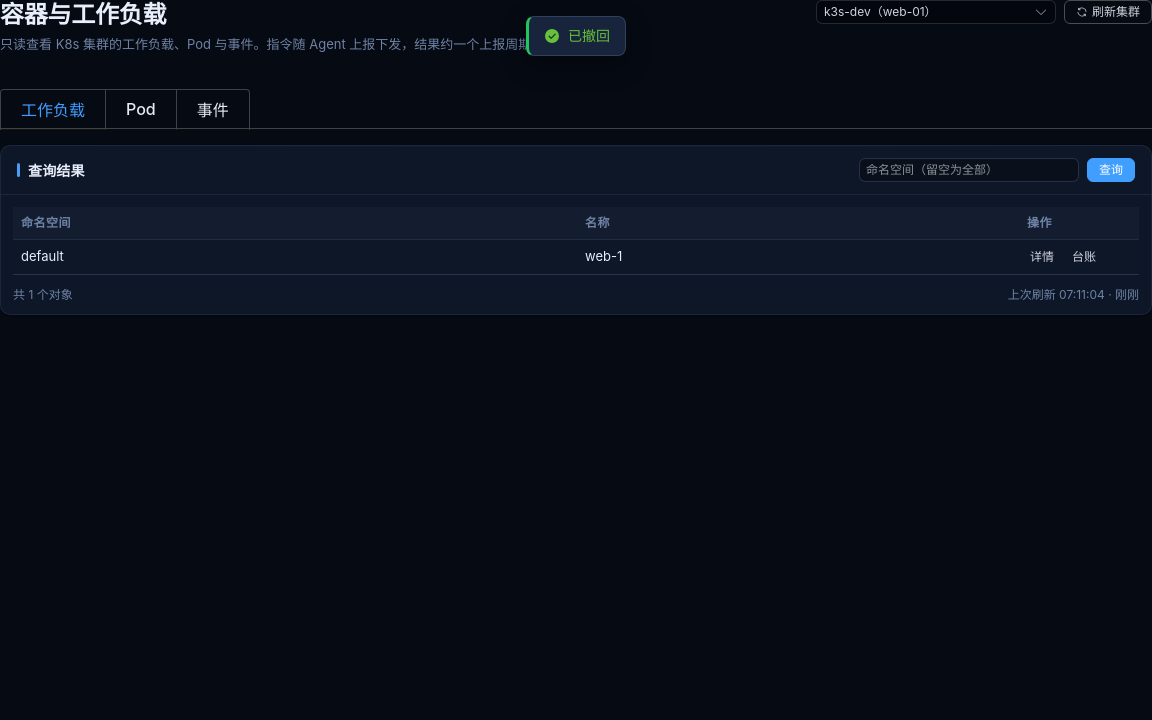
Test case: ContainerView 容器与工作负载页 › Pod 行上的「日志」下发 container.logs 并按原样展示日志行
Click the tab "Pod": click(140, 110) [105,90,176,130]
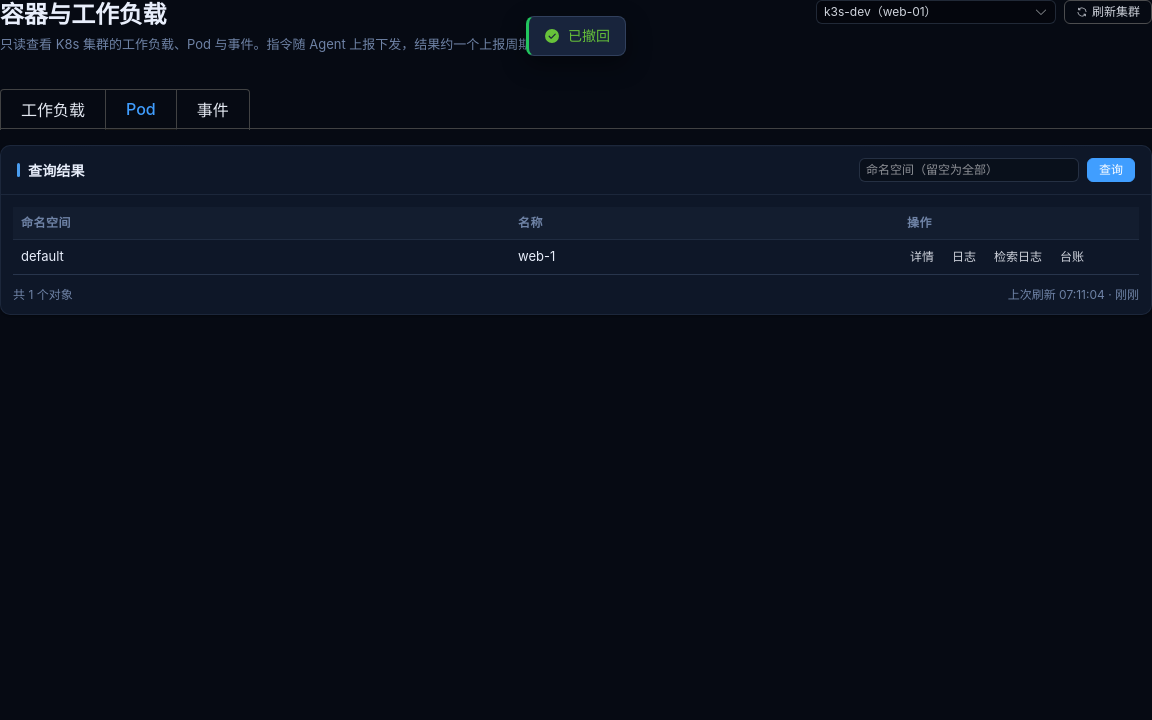
Expected: the button "日志" is shown
Click the button "日志": click(964, 258) [949,248,979,266]
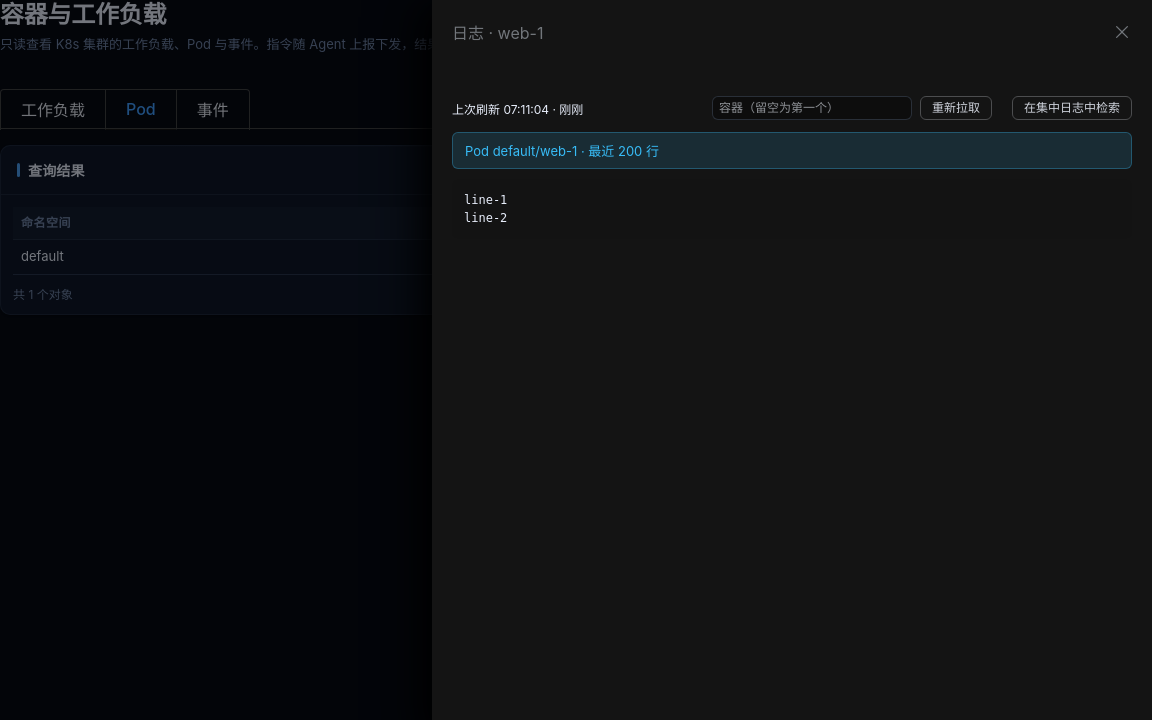
Expected: the text "line-1" is shown, [464,193,507,225]
Expected: the text "line-2" is shown, [464,193,507,225]
Expected: the text "最近 200 行" is shown, [465,143,659,159]
